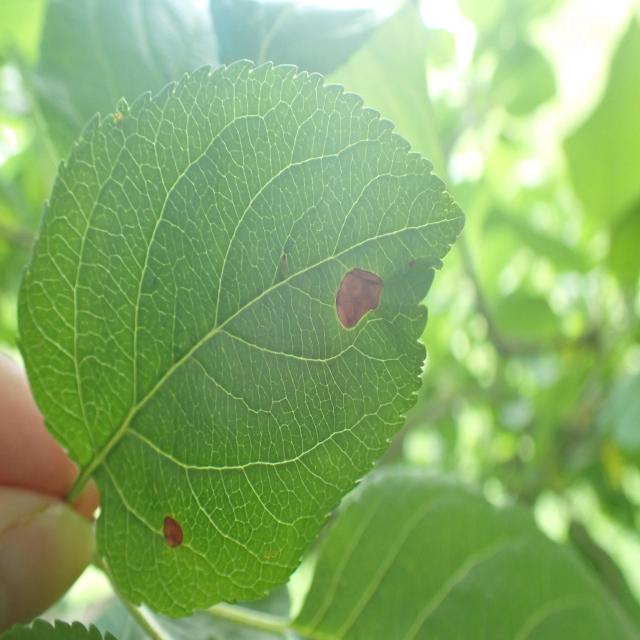Black Rot: (332, 251, 384, 331), (155, 502, 185, 575)
